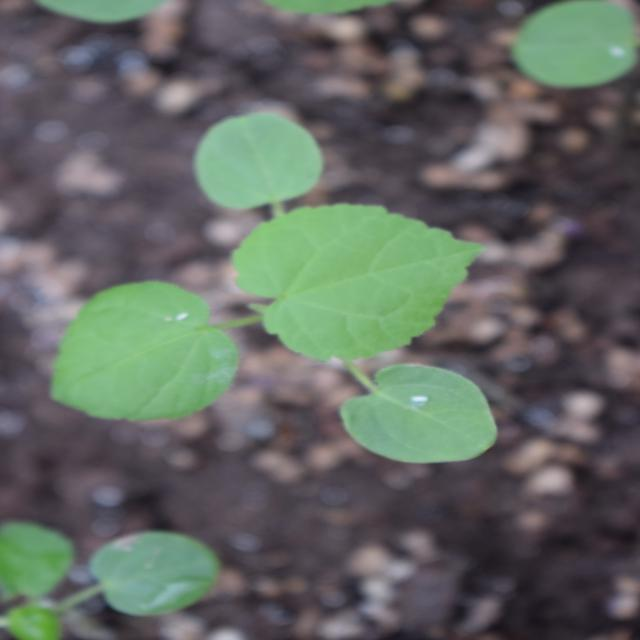abutilon theophrasti: (174, 76, 525, 492)
